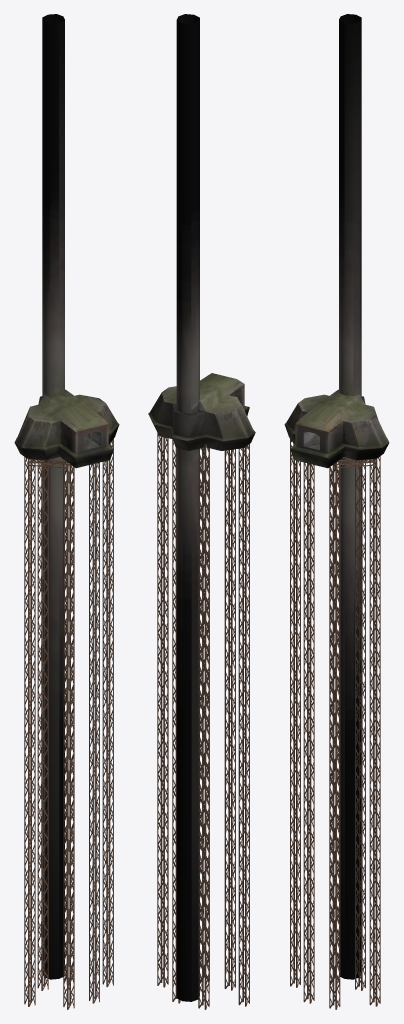
File: station.obj
3 views of the same model, side by side, from view 1: azimuth 30°, elevation 25°; view 2: azimuth 150°, elevation 25°; view 3: azimuth 330°, elevation 25° (orthographic). The views are drawn at different scales.
Visible parts, largest first — view 1: Cube.001, Cube.010, Cube.002, Cube.003, Cube.005, Cube.004, Cube.009, Cube.007; view 2: Cube.001, Cube.010, Cube.003, Cube.002, Cube.005, Cube.009, Cube.004; view 3: Cube.001, Cube.003, Cube.004, Cube.005, Cube.002, Cube.009, Cube.010, Cube.008.
Part boxes in pixels (x1,y1,x2,y2): Cube.001: (14,14,119,979); Cube.010: (37,460,48,990); Cube.002: (24,457,35,1006); Cube.003: (102,439,113,987); Cube.005: (63,459,74,1009); Cube.004: (89,462,99,1003); Cube.009: (64,463,73,984); Cube.007: (28,457,69,468); Cube.001: (148,14,255,1001); Cube.010: (198,444,209,1009); Cube.003: (157,433,168,987); Cube.002: (238,444,249,1006); Cube.005: (224,449,235,990); Cube.009: (172,438,180,1003); Cube.004: (200,447,209,982); Cube.001: (284,14,389,979); Cube.003: (369,456,380,1006); Cube.004: (329,460,340,1009); Cube.005: (303,462,314,1003); Cube.002: (290,439,300,987); Cube.009: (355,460,365,990); Cube.010: (330,464,339,982); Cube.008: (335,457,376,468).
Bounding box in the file's own units: 18.32 × 173 × 16.03.
Materials: 1 (1 with a texture image).
